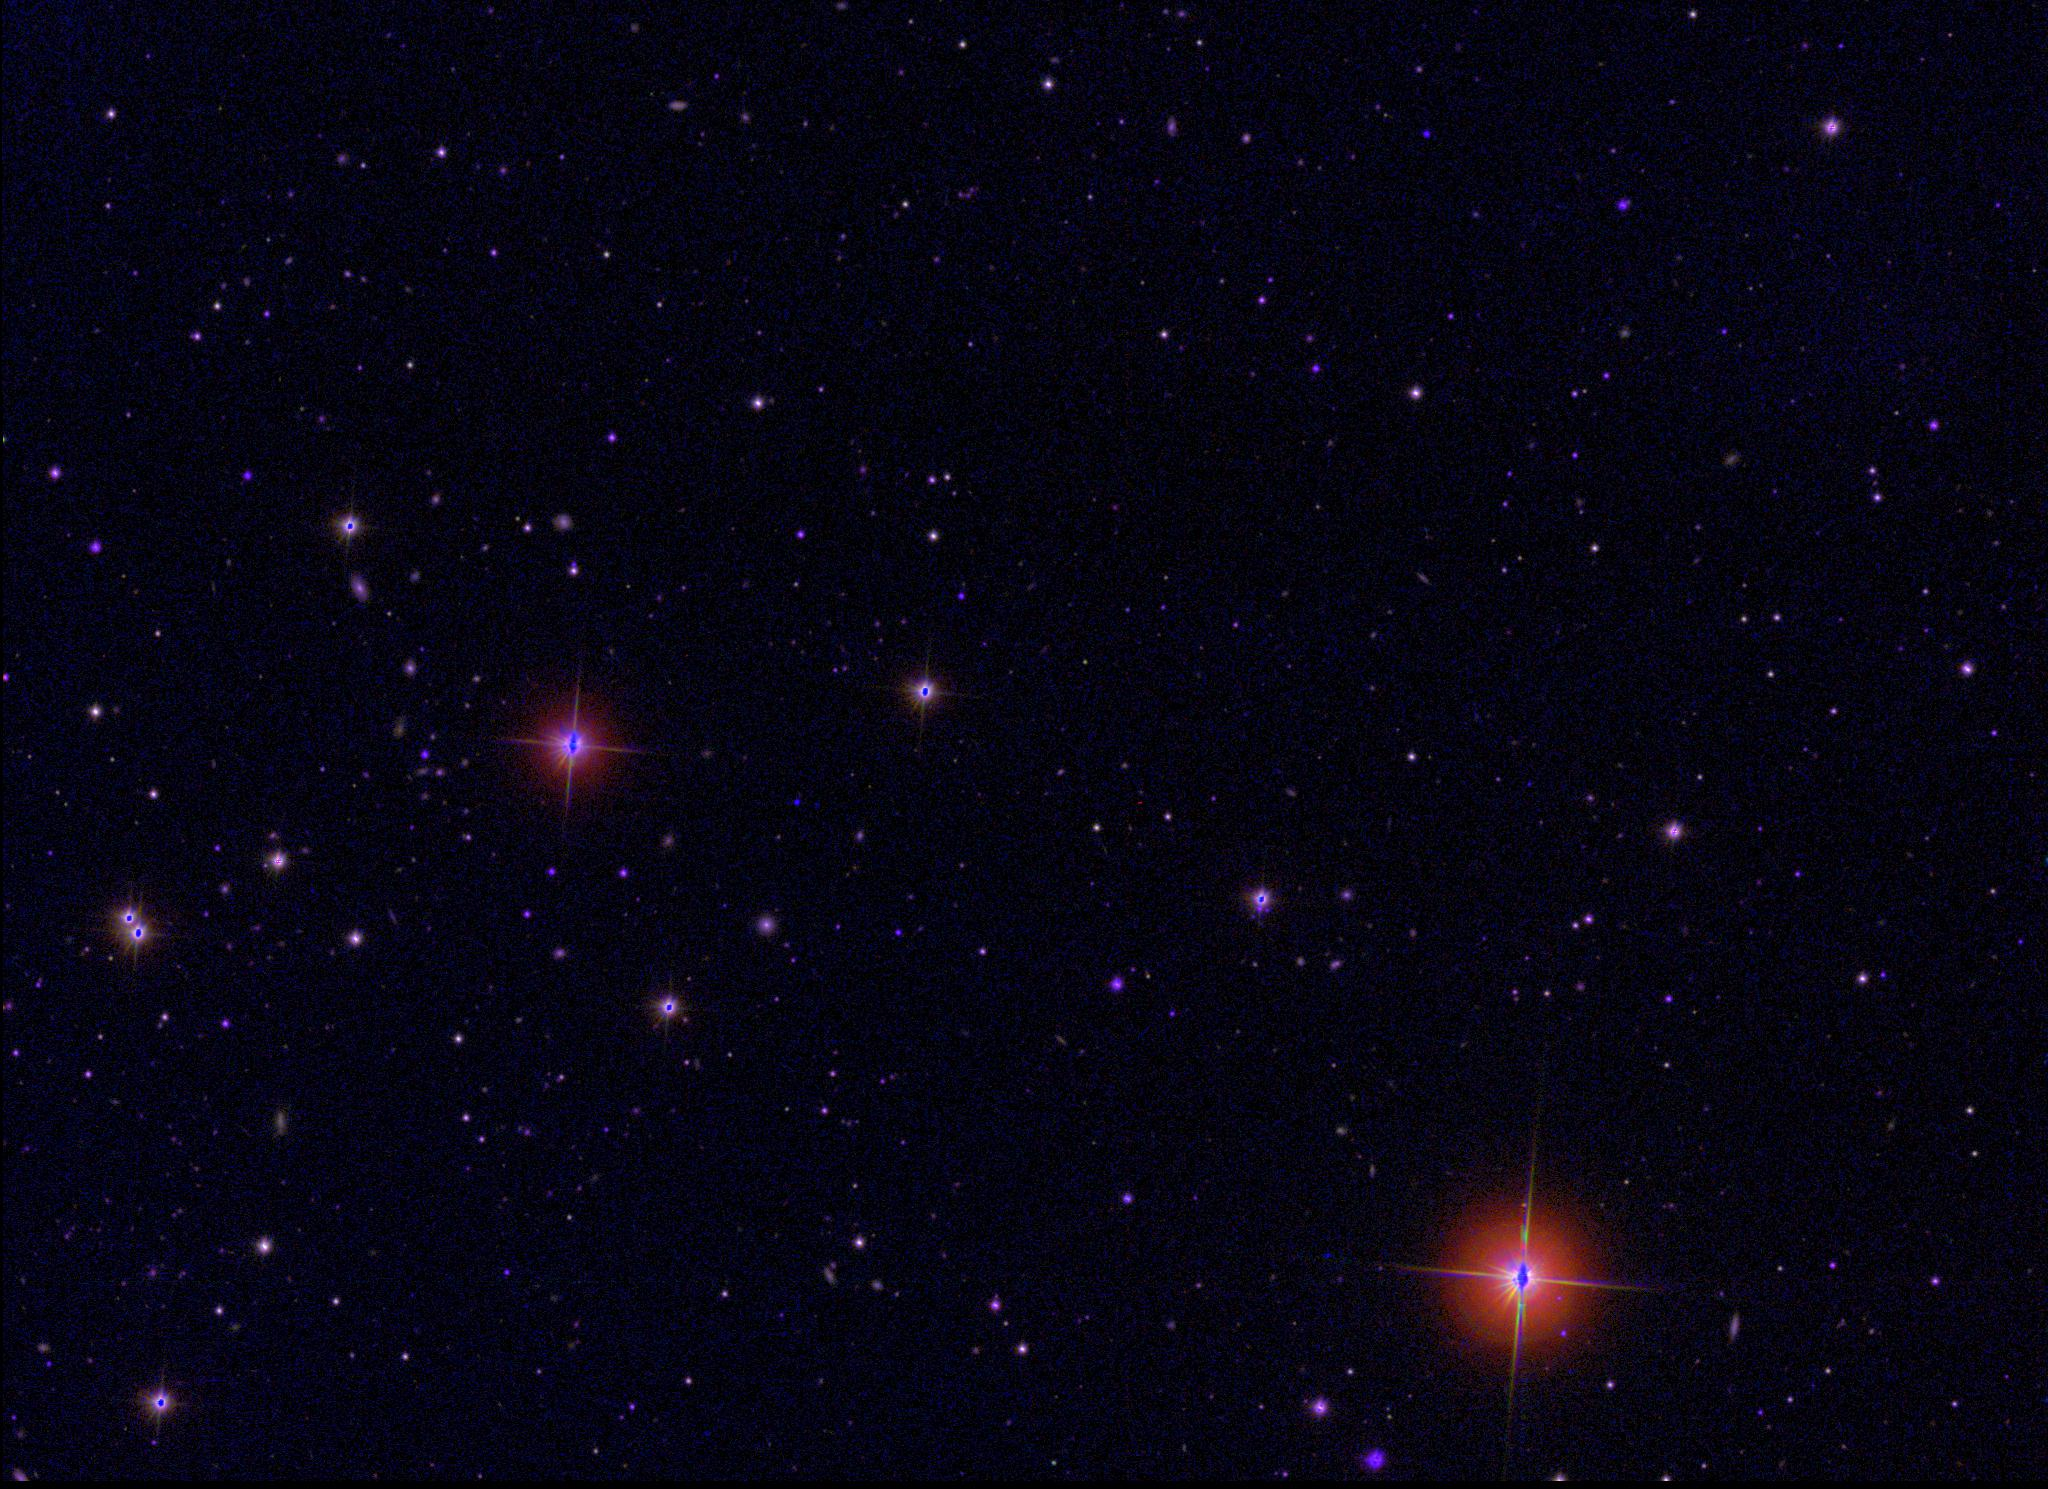L: (789, 792, 803, 807)
